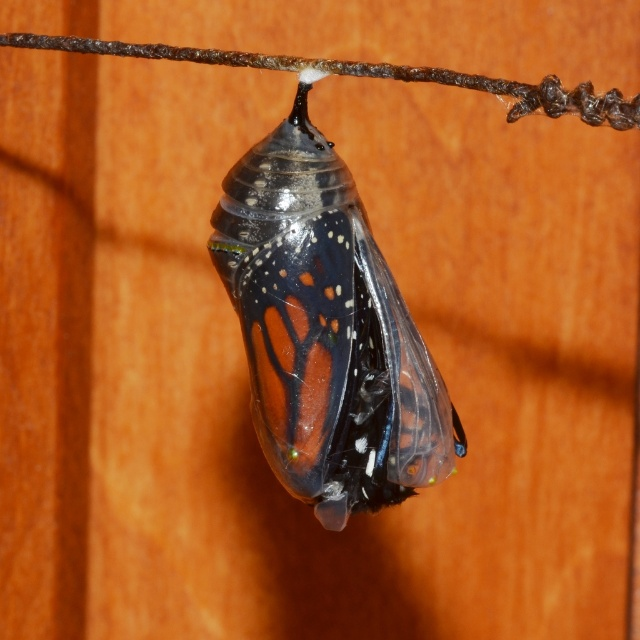Butterfly: (207, 98, 464, 527)
